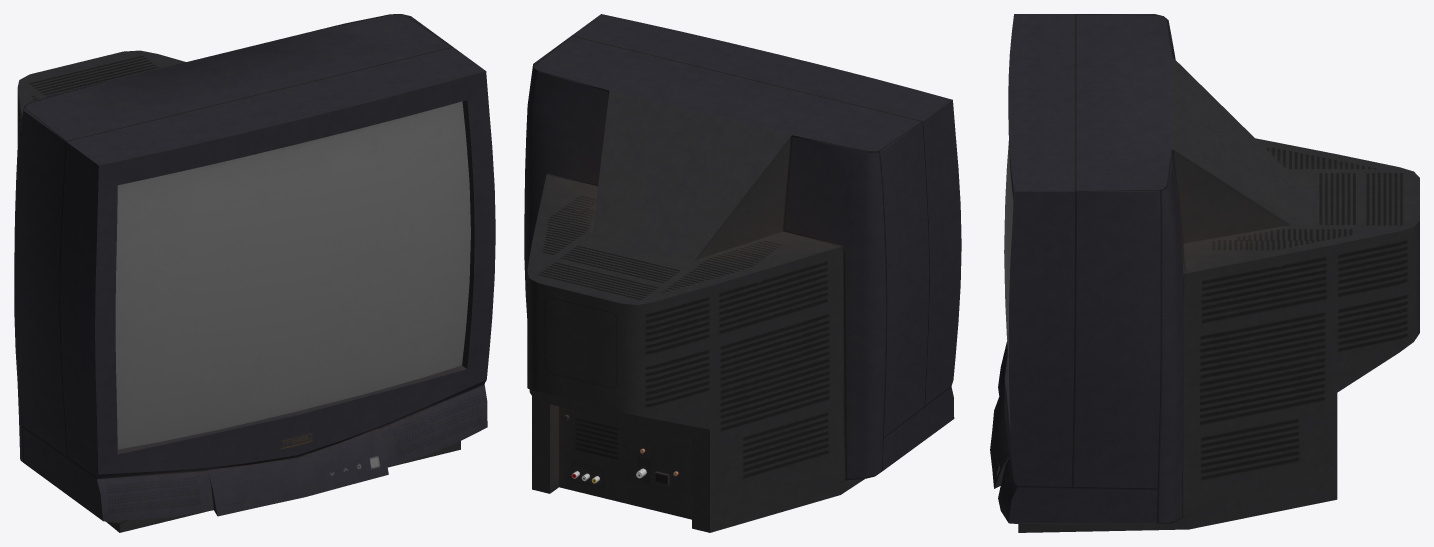
The model's file is retroTV.glb.
The picture shows the model from 3 angles, left to right: view 1: azimuth 30°, elevation 25°; view 2: azimuth 150°, elevation 25°; view 3: azimuth 270°, elevation 25°; orthographic projection. The views are drawn at different scales.
Visible parts, largest first — view 1: 90sTV; view 2: 90sTV; view 3: 90sTV.
Part boxes in pixels (bbox=[...]): 90sTV: bbox=[14, 14, 495, 532]; 90sTV: bbox=[524, 14, 961, 532]; 90sTV: bbox=[990, 14, 1419, 532].
Bounding box in the file's own units: 3.36 × 3 × 3.33.
Materials: 2 (2 with a texture image).
